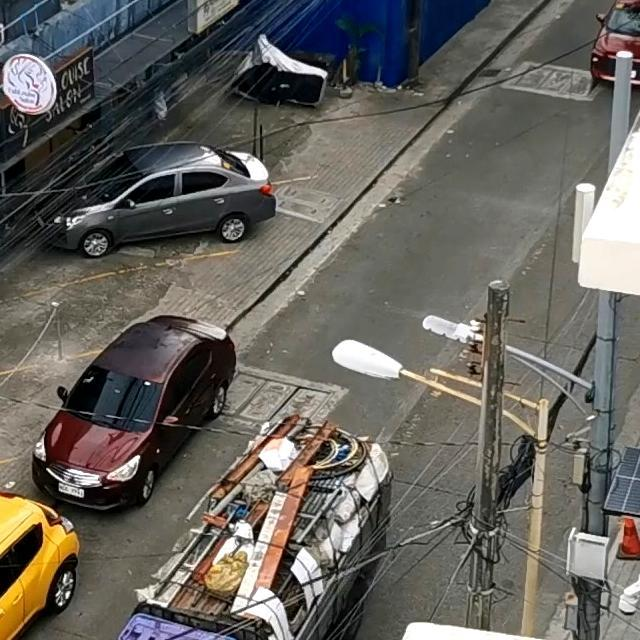Truck: (51, 406, 411, 640)
